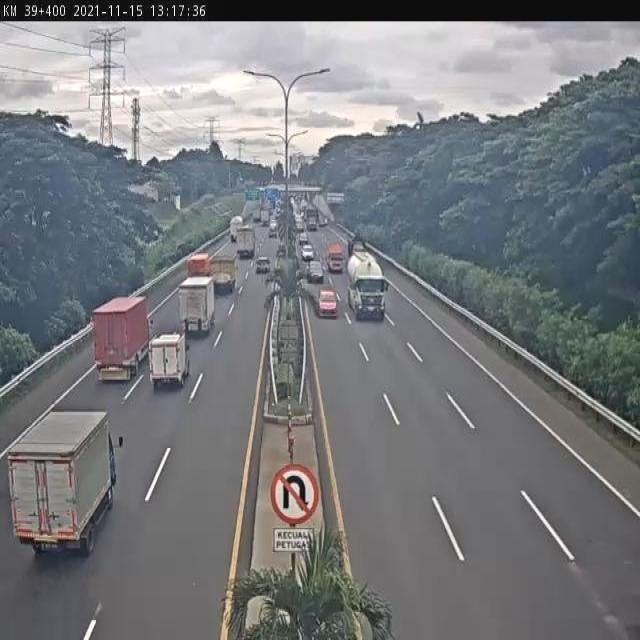Car: (318, 289, 340, 318), (306, 261, 324, 284), (254, 255, 269, 272), (302, 243, 314, 260)
Truck: (6, 408, 116, 556), (91, 295, 150, 382), (346, 250, 388, 321), (148, 331, 188, 389), (178, 276, 215, 338), (208, 253, 236, 295), (235, 225, 256, 259), (326, 242, 345, 273), (229, 216, 243, 243), (306, 207, 318, 230)
